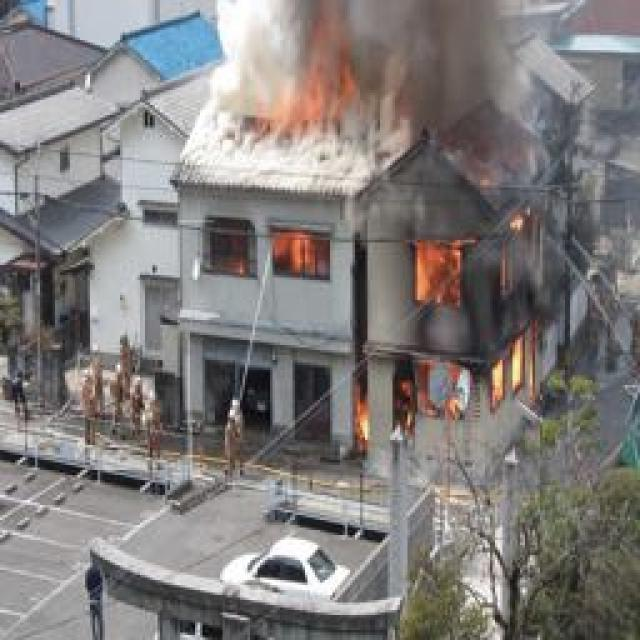Fire: (349, 208, 555, 444), (245, 33, 355, 133), (222, 230, 331, 277)
